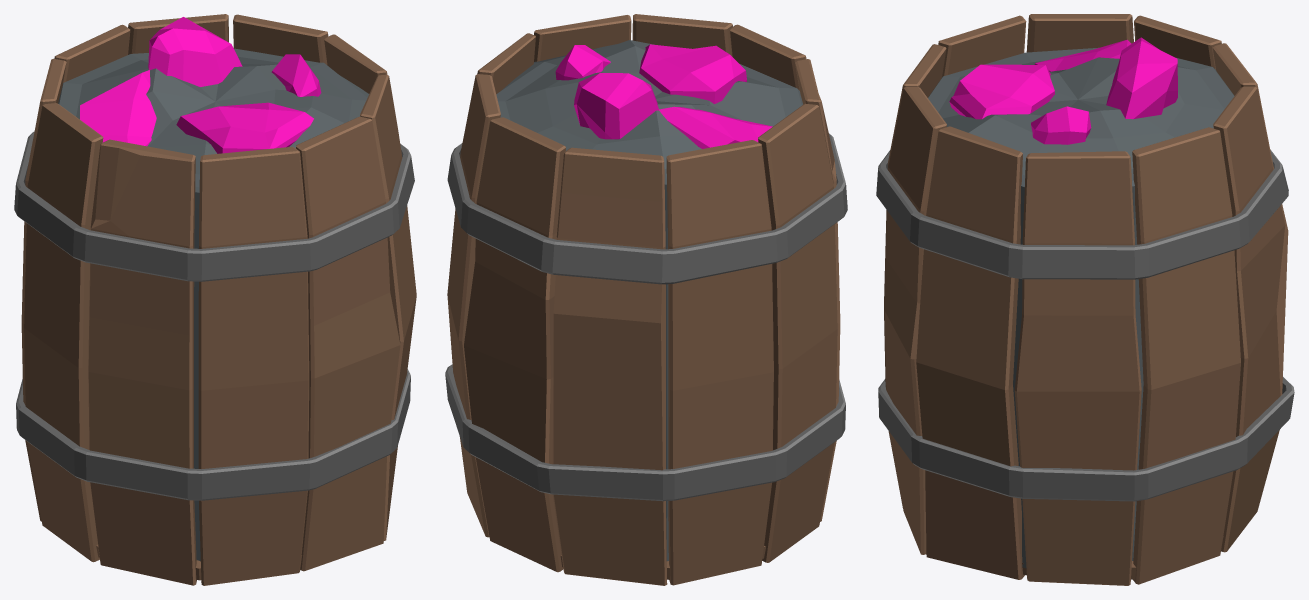
Rendered from Barrel3_Purple.fbx.
3 views of the same model, side by side, from view 1: azimuth 30°, elevation 25°; view 2: azimuth 150°, elevation 25°; view 3: azimuth 270°, elevation 25° (orthographic).
Visible parts, largest first — view 1: Barrel3_Purple, Purple_Nuggets; view 2: Barrel3_Purple, Purple_Nuggets; view 3: Barrel3_Purple, Purple_Nuggets.
Boxes of the visible parts, x1,y1,x2,y2 form: Barrel3_Purple: (14, 14, 416, 585); Purple_Nuggets: (80, 17, 321, 153); Barrel3_Purple: (445, 14, 847, 585); Purple_Nuggets: (555, 44, 772, 148); Barrel3_Purple: (876, 14, 1294, 585); Purple_Nuggets: (949, 37, 1177, 144).
Bounding box in the file's own units: 101 × 130 × 106.
